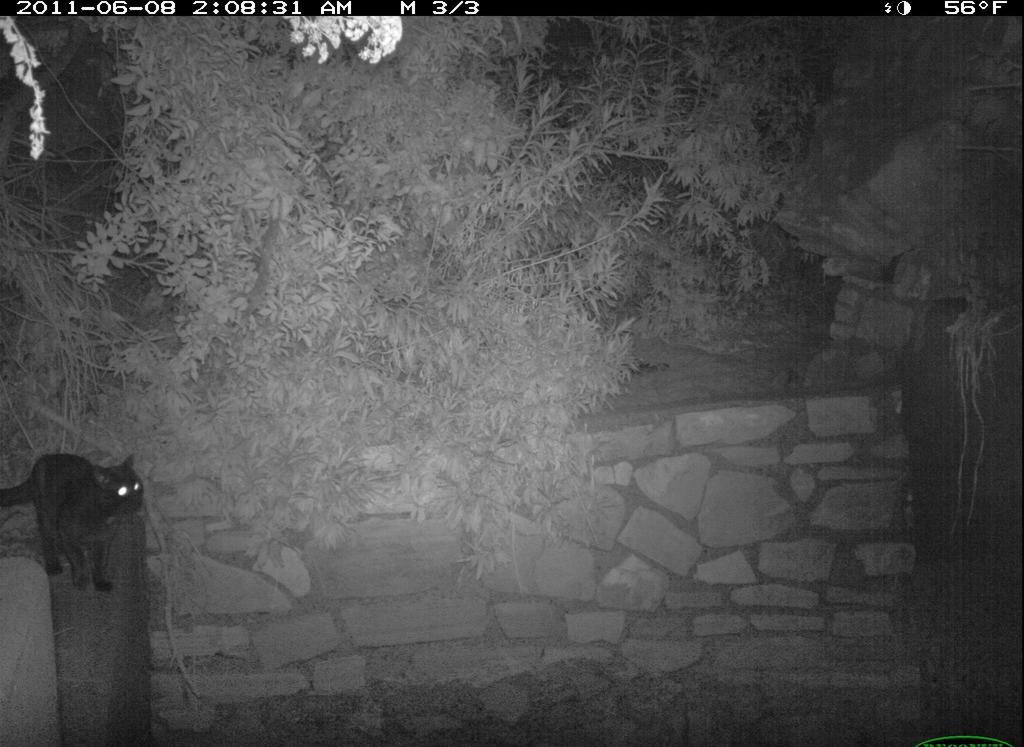cat: (4, 442, 155, 598)
